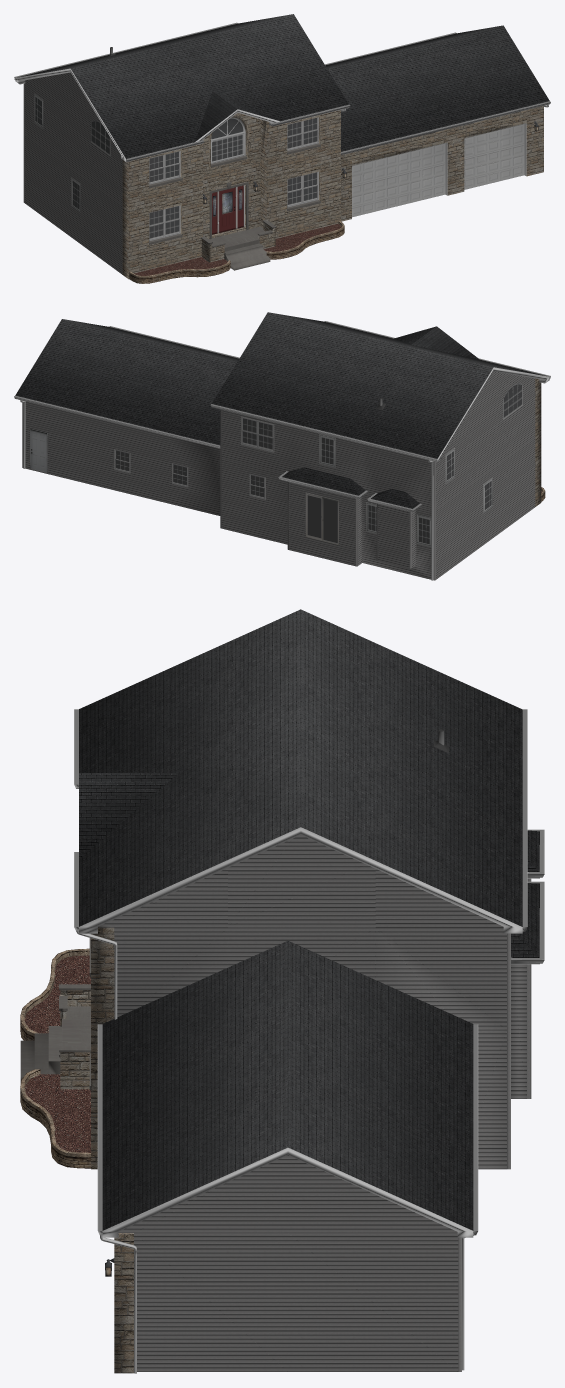
3 renders of one model, top to bottom at view 1: azimuth 30°, elevation 25°; view 2: azimuth 150°, elevation 25°; view 3: azimuth 270°, elevation 25°, orthographic. The views are drawn at different scales.
Visible parts, largest first — view 1: polySurface1017_phong6_0; view 2: polySurface1017_phong6_0; view 3: polySurface1017_phong6_0.
Boxes of the visible parts, x1,y1,x2,y2 form: polySurface1017_phong6_0: [14, 14, 550, 283]; polySurface1017_phong6_0: [14, 312, 550, 580]; polySurface1017_phong6_0: [20, 609, 544, 1373].
Size of the model in its own units: 2423 by 936 by 1280.
Materials: 1 (1 with a texture image).
